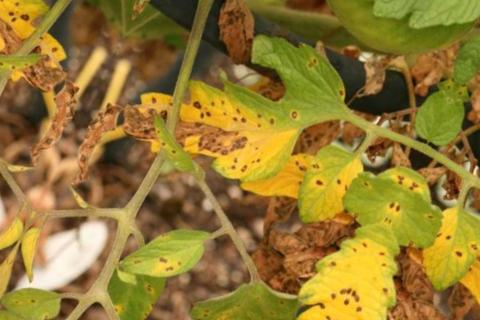Tomato Septoria leaf spot: (112, 24, 343, 230), (278, 129, 380, 241)
